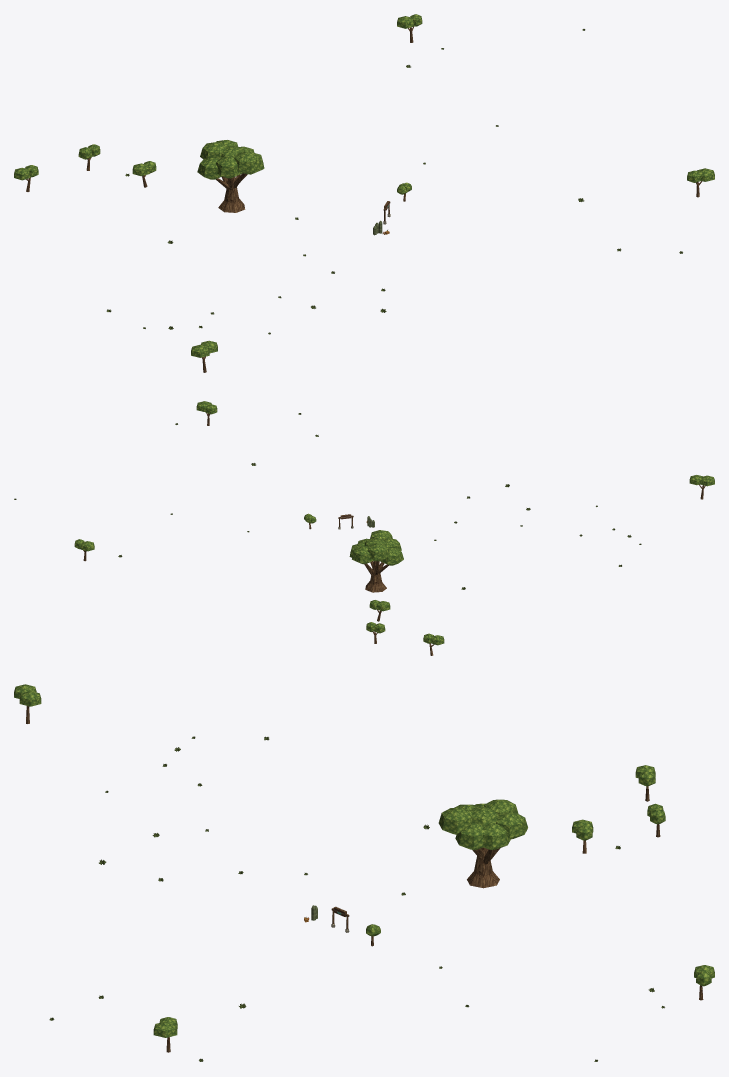
File: FieldCell_3_2.fbx
3 views of the same model, one above another, from view 1: azimuth 30°, elevation 25°; view 2: azimuth 150°, elevation 25°; view 3: azimuth 270°, elevation 25° (orthographic). The views are drawn at different scales.
Parts seen in each view (by area): view 1: FieldCell_3_2; view 2: FieldCell_3_2; view 3: FieldCell_3_2.
Part boxes in pixels (box(x1,y1,x2,y2)): FieldCell_3_2: box(14, 14, 714, 372); FieldCell_3_2: box(74, 401, 714, 655); FieldCell_3_2: box(14, 684, 714, 1052).
Size of the model in its own units: 16503 by 1554 by 13108.
